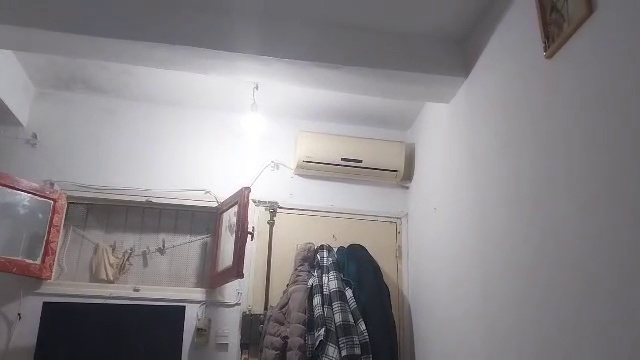air_conditioner: (287, 120, 419, 197)
television: (33, 292, 185, 360)
